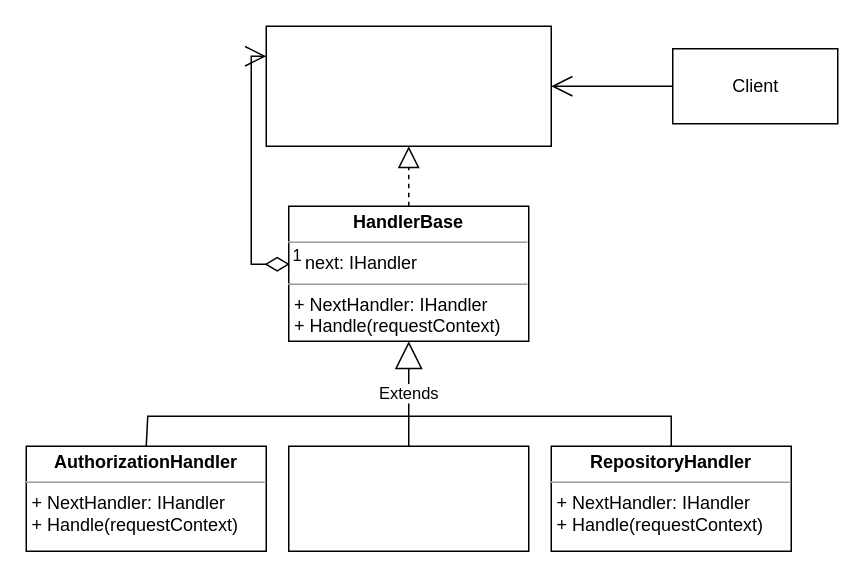
Some shapes in this 864 by 578 pixel diagram are drawn without their labels. Here are the shapes that lost their labels. From the top down, the centre of each, then its label:
At pixel 408 85: "<<Interface>> IHandler + NextHandler: IHandler + Handle(requestContext)".
At pixel 408 498: "ValidationHandler + NextHandler: IHandler + Handle(requestContext)".
